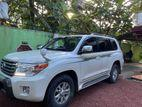car: (1, 35, 123, 107)
